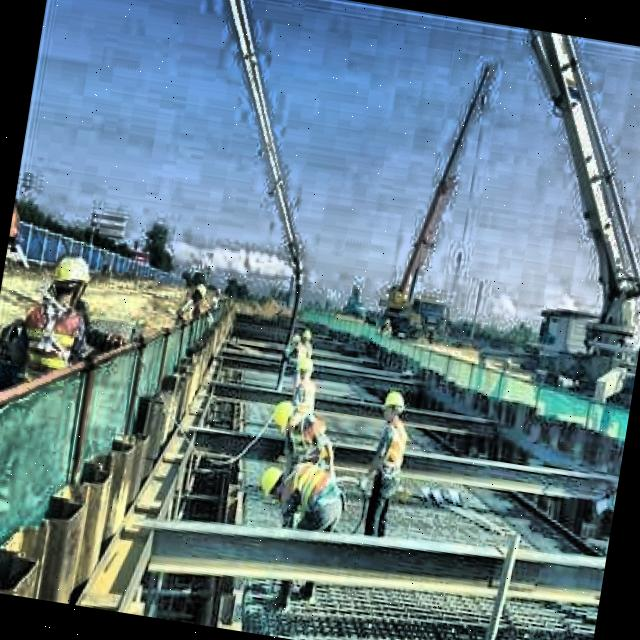helmet: (45, 248, 97, 317), (264, 396, 304, 436), (376, 386, 412, 428), (258, 462, 290, 502), (294, 356, 319, 386)
